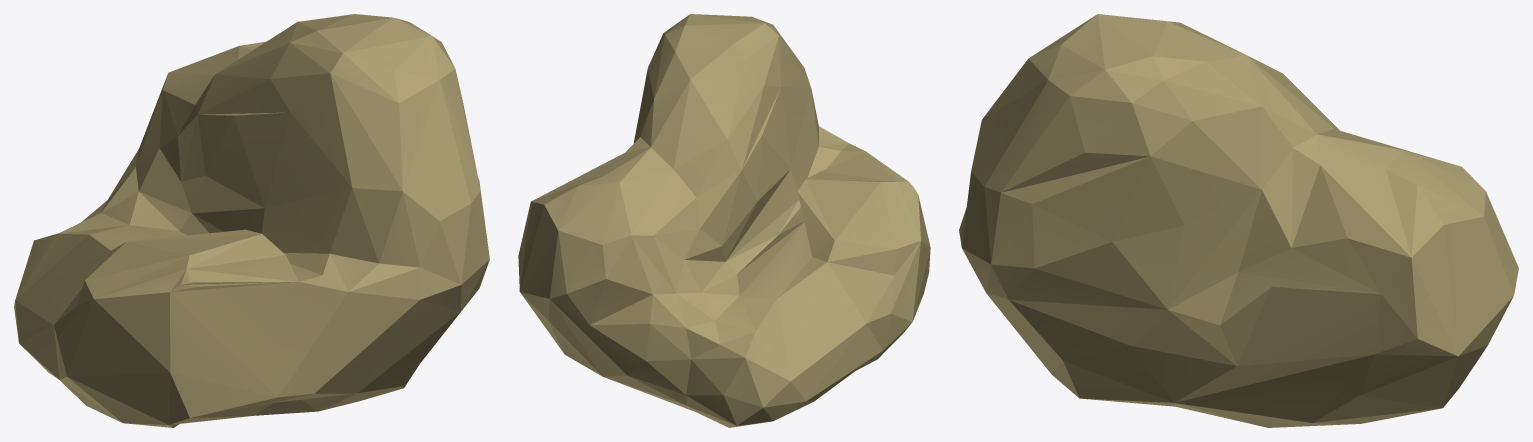
The model's file is SM_rock_89.fbx.
3 views of the same model, side by side, from view 1: azimuth 30°, elevation 25°; view 2: azimuth 150°, elevation 25°; view 3: azimuth 270°, elevation 25° (orthographic). The views are drawn at different scales.
Parts seen in each view (by area): view 1: rock_89; view 2: rock_89; view 3: rock_89.
Part boxes in pixels (box(x1,y1,x2,y2)): rock_89: box(14, 14, 489, 427); rock_89: box(518, 14, 930, 427); rock_89: box(959, 14, 1518, 427).
Size of the model in its own units: 145 by 135 by 168.
